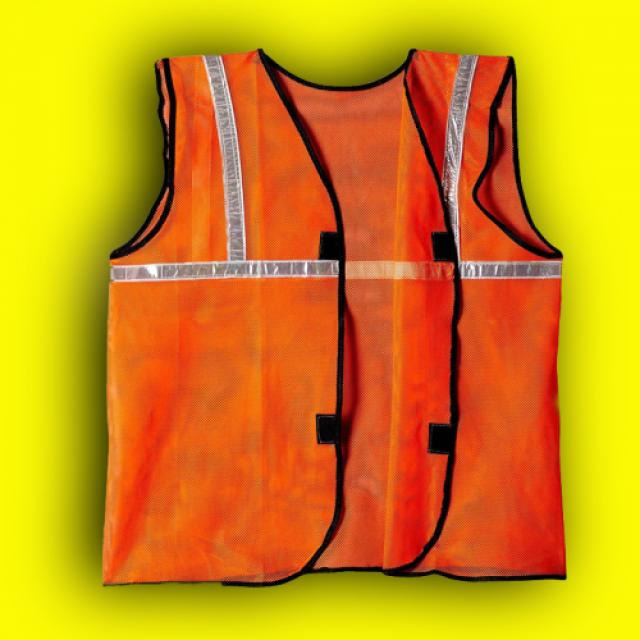safety_jacket: (106, 43, 576, 584)
